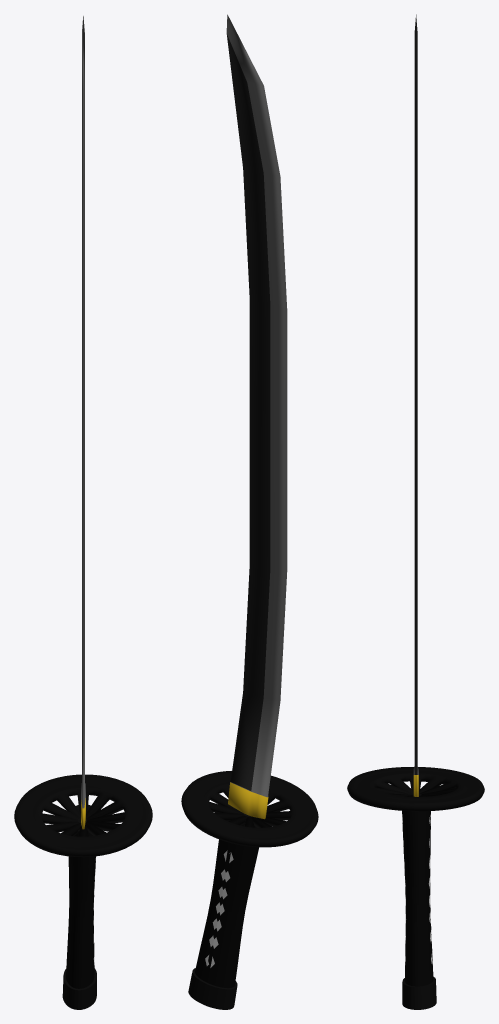
Rendered from Katana.obj.
3 views of the same model, side by side, from view 1: azimuth 90°, elevation 25°; view 2: azimuth 150°, elevation 25°; view 3: azimuth 270°, elevation 25° (orthographic).
Parts seen in each view (by area): view 1: Guard_Torus, Handle_Cylinder, Blade_Cube.002; view 2: Blade_Cube.002, Handle_Cylinder, Guard_Torus; view 3: Handle_Cylinder, Guard_Torus, Blade_Cube.002.
Boxes of the visible parts, box(x1,y1,x2,y2) form: Guard_Torus: box(14, 774, 152, 857); Handle_Cylinder: box(62, 804, 96, 1009); Blade_Cube.002: box(81, 16, 85, 829); Blade_Cube.002: box(226, 14, 287, 819); Handle_Cylinder: box(188, 813, 258, 1009); Guard_Torus: box(181, 771, 318, 847); Handle_Cylinder: box(402, 794, 436, 1009); Guard_Torus: box(347, 767, 484, 811); Blade_Cube.002: box(413, 14, 418, 796).
Size of the model in its own units: 0.1384 by 1.11 by 0.1402.
